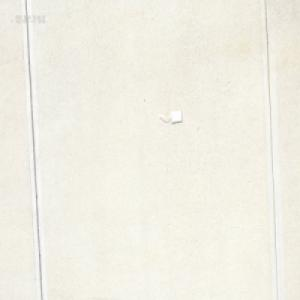LuggageTag: (159, 109, 182, 125)
